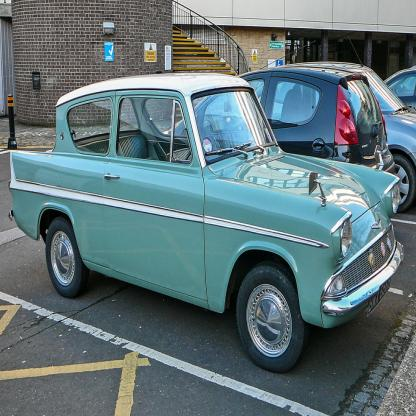Car: (9, 74, 406, 375), (165, 41, 396, 178), (255, 35, 416, 214), (385, 66, 416, 114)
